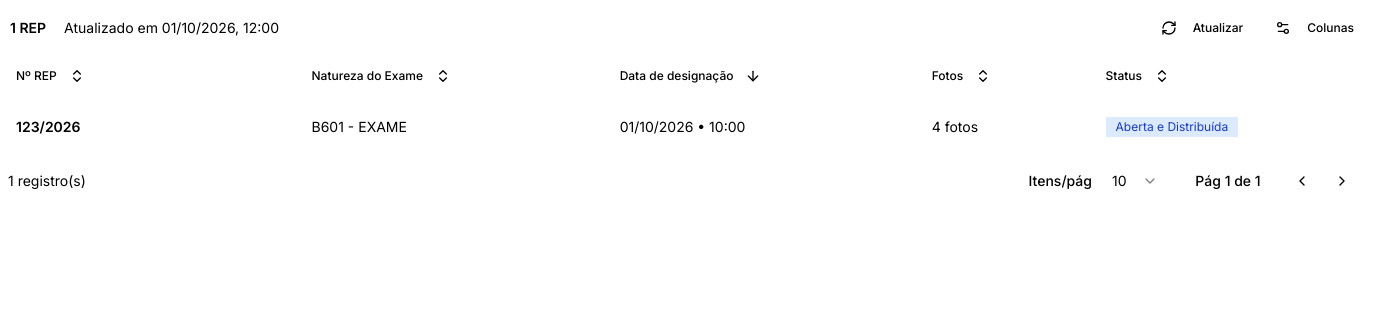
REPs do GDL no dashboard › preserva a lista salva e avisa quando a rede ou VPN falha
Click the button "Atualizar": point(1202, 28) left=1149, top=12, right=1255, bottom=44
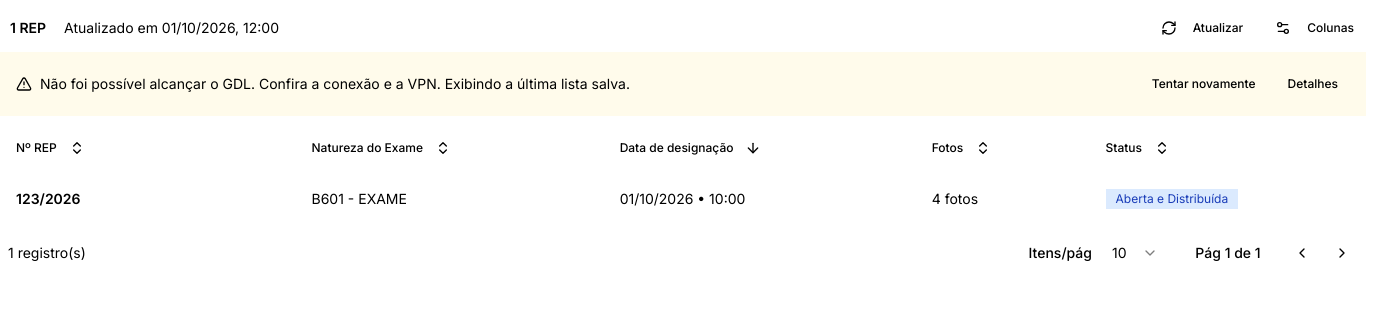
Result: the text "Não foi possível alcançar o GDL" shows "Exibindo a última lista salva." at left=445, top=75, right=630, bottom=92
Click the button "Detalhes": point(1313, 84) left=1276, top=68, right=1350, bottom=100
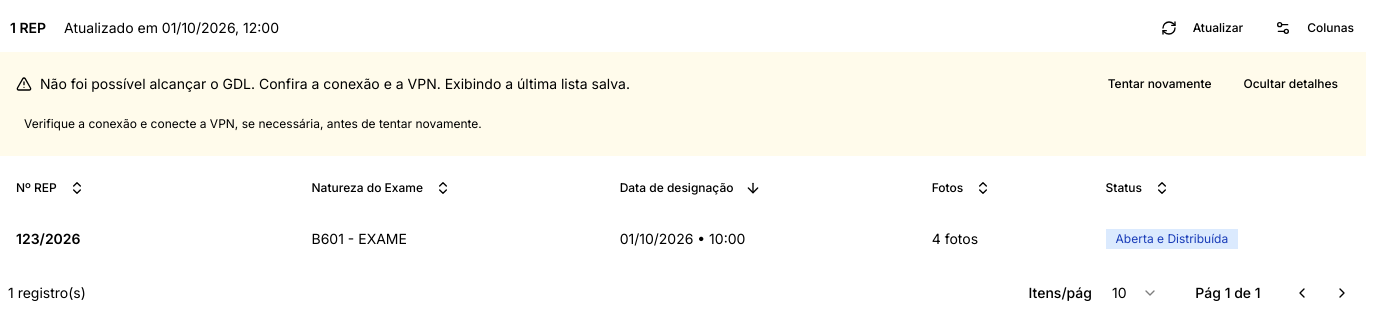
Expected: the button "123/2026" is enabled, left=16, top=228, right=144, bottom=248
Result: the text "Verifique a conexão e conecte a VPN, se necessária, antes de tentar novamente." is shown at left=24, top=116, right=482, bottom=131
